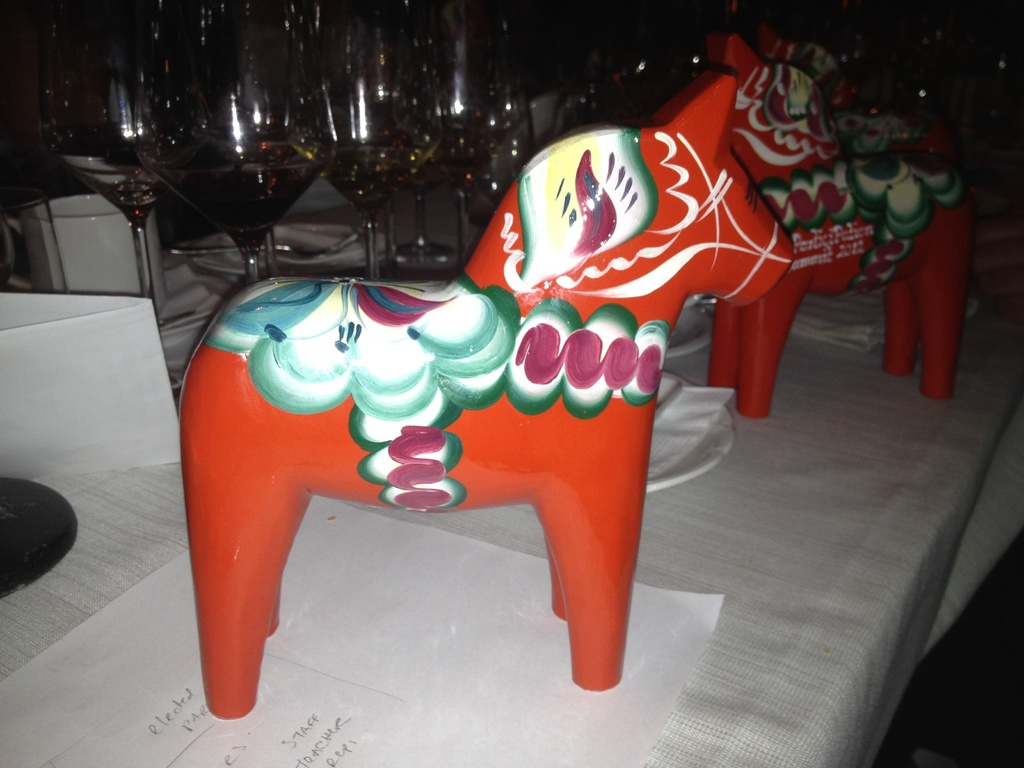Animal: (174, 69, 793, 725), (707, 28, 962, 416), (736, 14, 960, 301)
